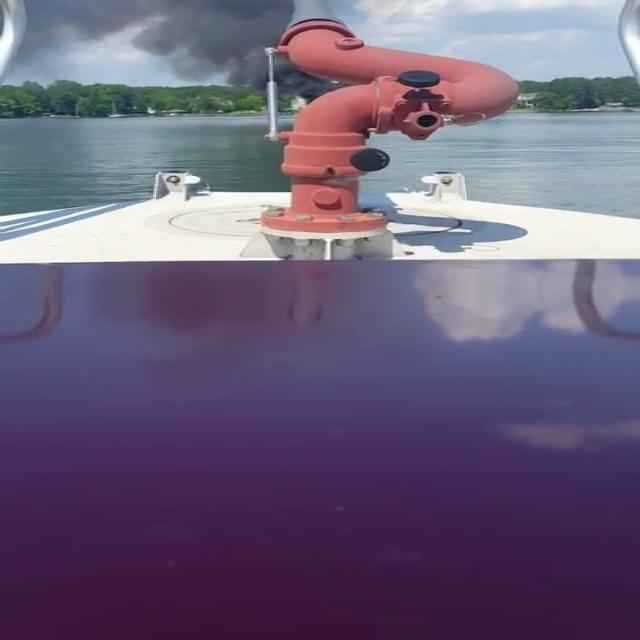Smoke: (0, 0, 361, 80)
